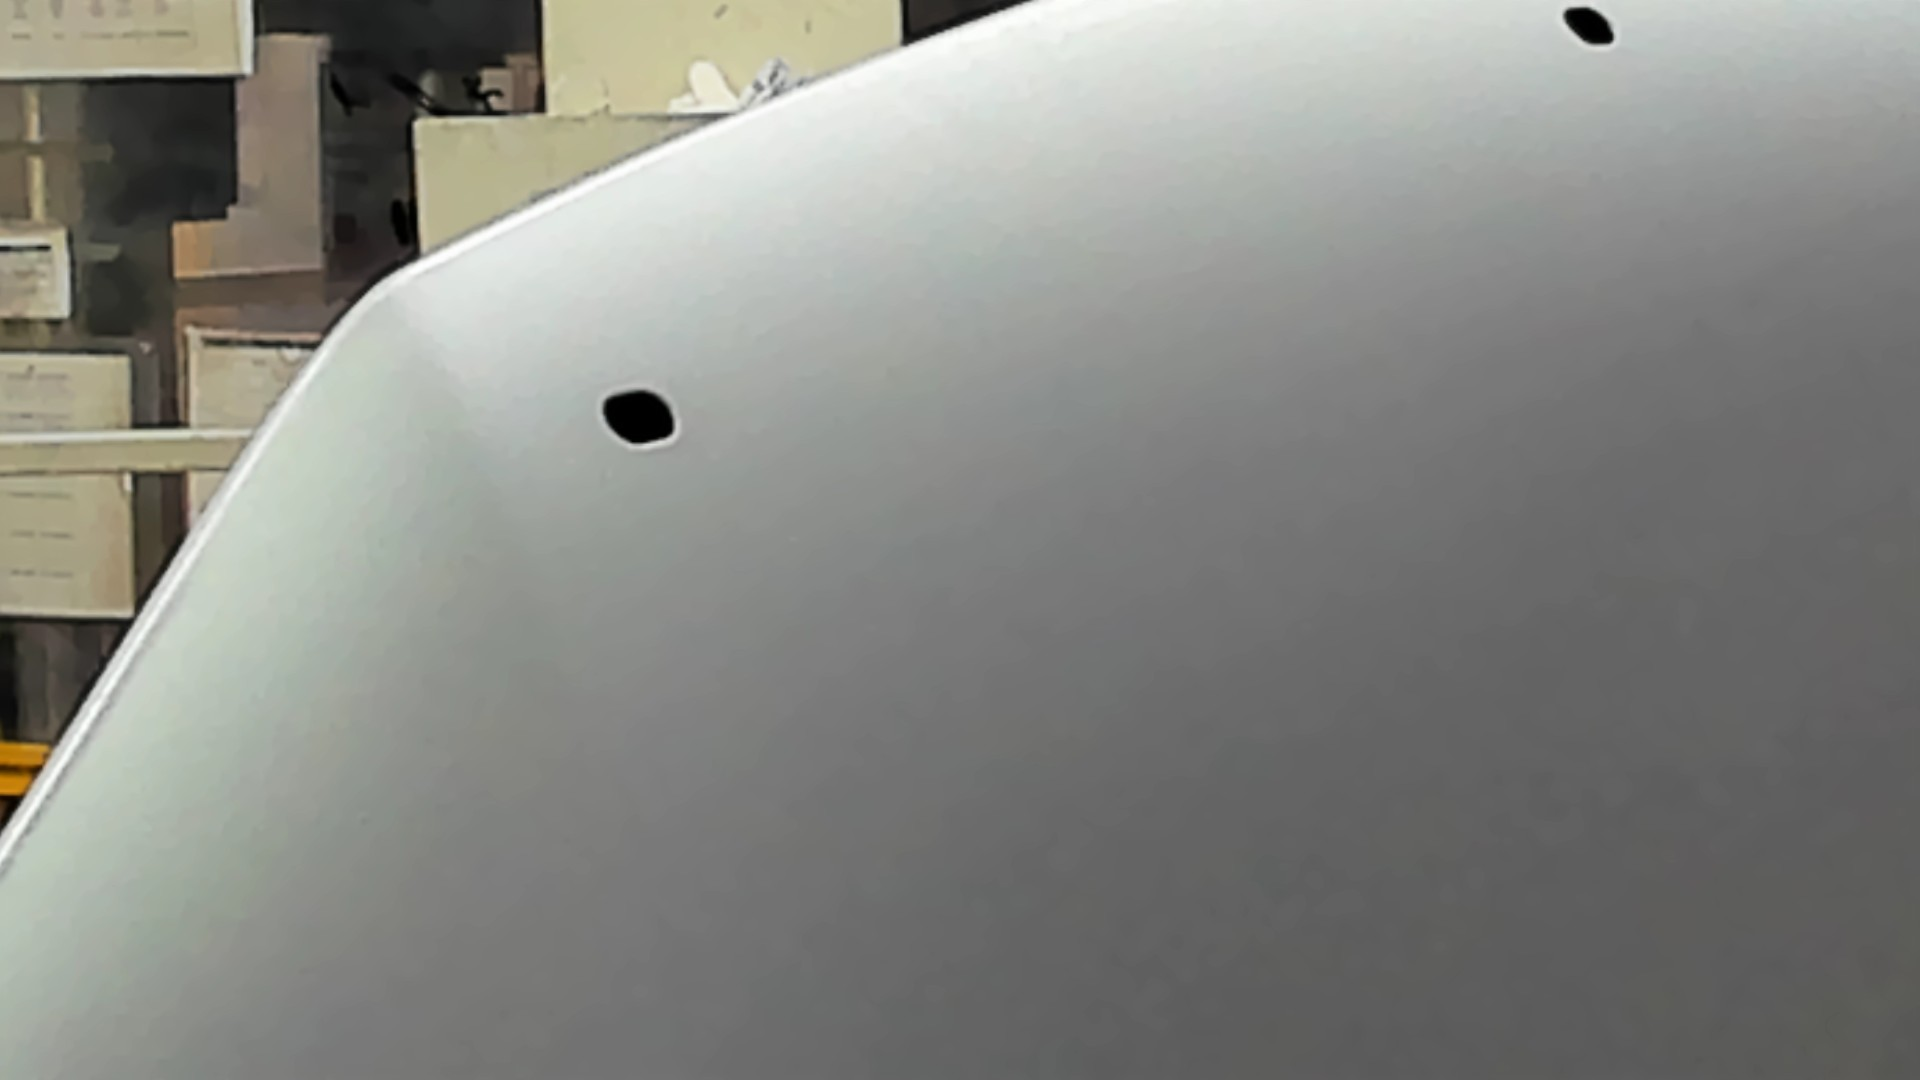amorfo: (597, 382, 679, 451), (1557, 4, 1621, 55)
